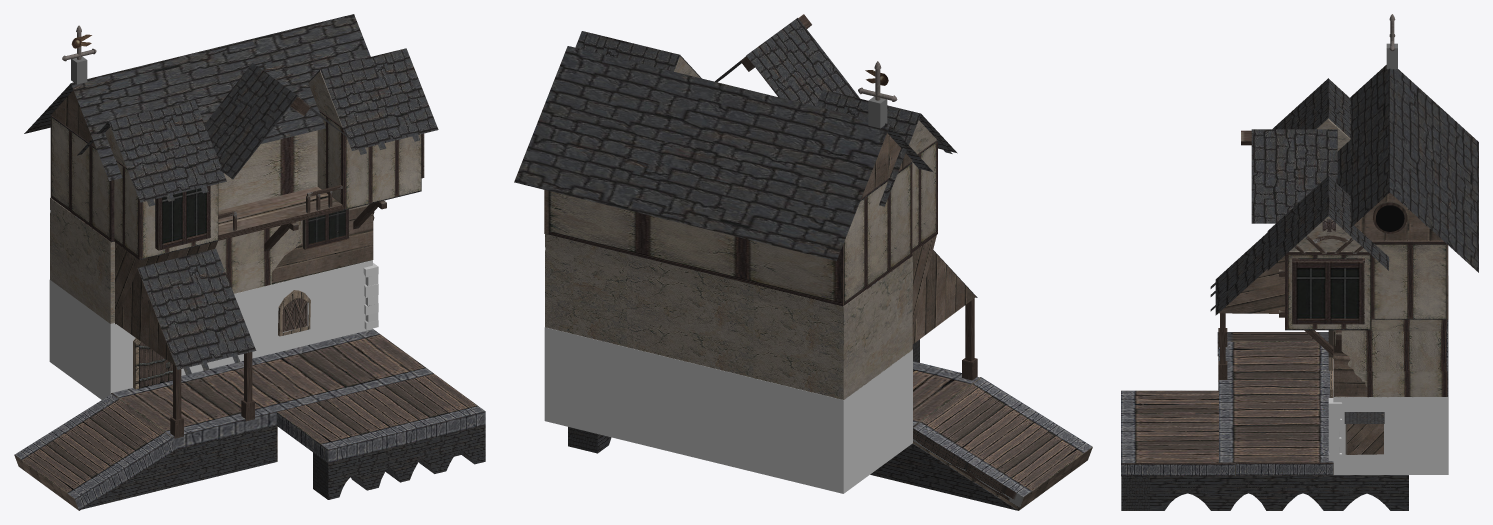
Rendered from CasaA4.fbx.
The picture shows the model from 3 angles, left to right: view 1: azimuth 30°, elevation 25°; view 2: azimuth 150°, elevation 25°; view 3: azimuth 270°, elevation 25°; orthographic projection. The views are drawn at different scales.
Visible parts, largest first — view 1: Cube.044; view 2: Cube.044; view 3: Cube.044.
Boxes of the visible parts, x1=… form: Cube.044: x1=14, y1=14, x2=485, y2=510; Cube.044: x1=514, y1=14, x2=1092, y2=510; Cube.044: x1=1121, y1=14, x2=1478, y2=510.
Bounding box in the file's own units: 746 × 721 × 623.
